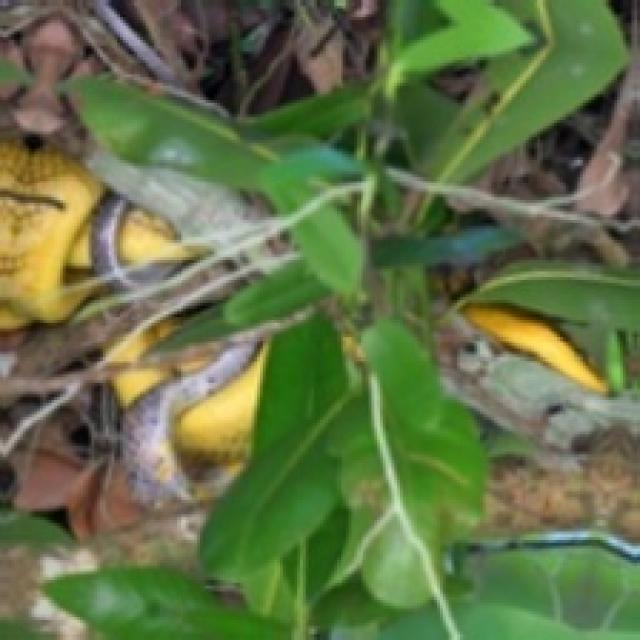red-tailed green ratsnake: (100, 320, 268, 502), (0, 138, 201, 290), (475, 310, 592, 384)
